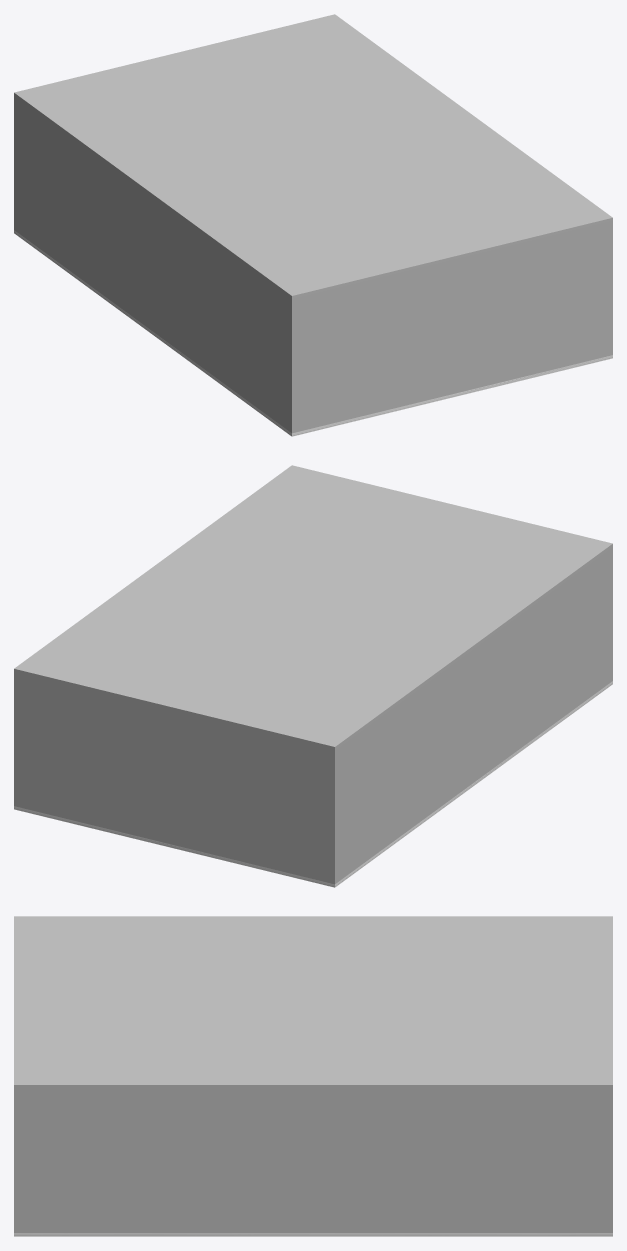
The picture shows the model from 3 angles, top to bottom: view 1: azimuth 30°, elevation 25°; view 2: azimuth 150°, elevation 25°; view 3: azimuth 270°, elevation 25°; orthographic projection. The views are drawn at different scales.
Visible parts, largest first — view 1: Roof_Cube.002, Wall_Cube, Floor_Cube.001; view 2: Roof_Cube.002, Wall_Cube, Floor_Cube.001; view 3: Roof_Cube.002, Wall_Cube, Floor_Cube.001.
Boxes of the visible parts, <box> form: Roof_Cube.002: <box>14,14,612,298</box>; Wall_Cube: <box>14,96,612,433</box>; Floor_Cube.001: <box>14,230,612,436</box>; Roof_Cube.002: <box>14,465,612,749</box>; Wall_Cube: <box>14,547,612,884</box>; Floor_Cube.001: <box>14,681,612,887</box>; Roof_Cube.002: <box>14,916,612,1088</box>; Wall_Cube: <box>14,1088,612,1232</box>; Floor_Cube.001: <box>14,1233,612,1236</box>.
Size of the model in its own units: 10 by 4.19 by 15.
